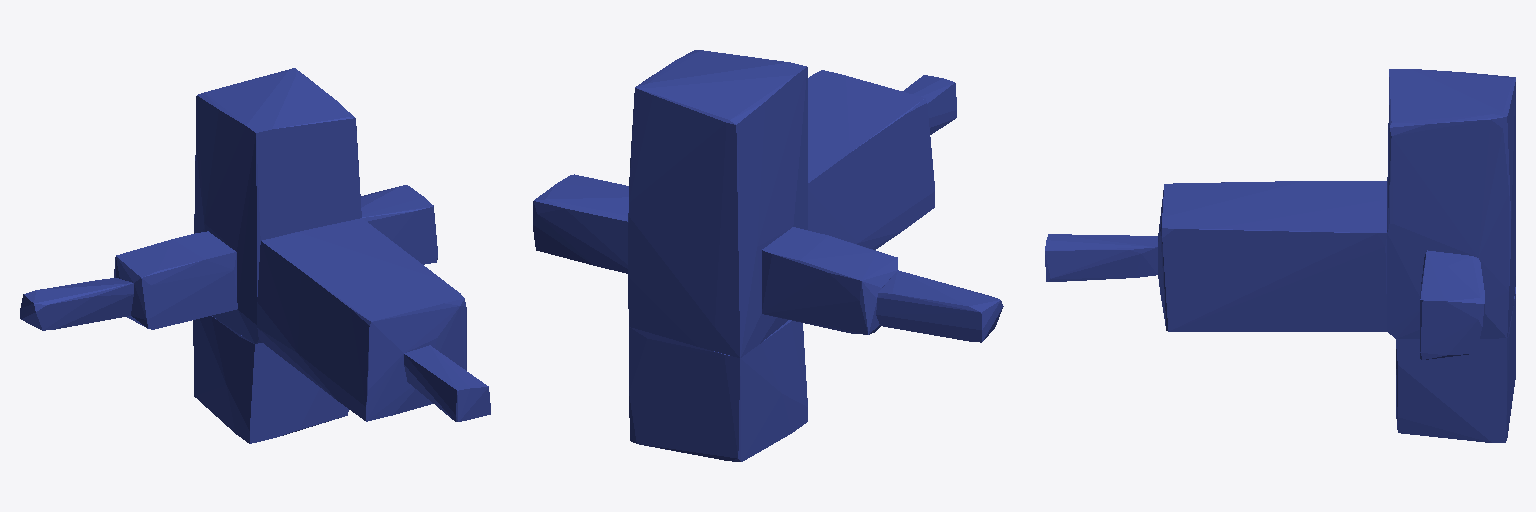
robot.urdf — blob814:
<robot name="blob814">
  <link name="random_obj_814">
    <contact>
      <lateral_friction value="1.0"/>
      <rolling_friction value="0.0"/>
      <inertia_scaling value="3.0"/>
      <contact_cfm value="0.0"/>
      <contact_erp value="1.0"/>
    </contact>
    <inertial>
      <origin rpy="0 0 0" xyz="0 0 0"/>
      <mass value="0.1"/>
      <inertia ixx="1" ixy="0" ixz="0" iyy="1" iyz="0" izz="0"/>
    </inertial>
    <visual>
      <origin rpy="0 0 0" xyz="0 0 0"/>
      <geometry>
        <mesh filename="814.obj" scale="0.015 0.015 0.015"/>
      </geometry>
      <material name="blockmat">
        <color rgba="0.28 0.34 0.66 1"/>
      </material>
    </visual>
    <collision>
      <origin rpy="0 0 0" xyz="0 0 0"/>
      <geometry>
        <mesh filename="814.obj" scale="0.015 0.015 0.015"/>
      </geometry>
    </collision>
  </link>
</robot>

--- What the picture shows (computed from the rendered views, not written in the file) ---
Views: 3 orthographic renders of the robot side by side, from view 1: azimuth 30°, elevation 25°; view 2: azimuth 150°, elevation 25°; view 3: azimuth 270°, elevation 25°.
Robot: blob814 — 1 links, 0 joints (none); root link random_obj_814; default pose: every joint at zero.
Links seen in each view (by area): view 1: random_obj_814; view 2: random_obj_814; view 3: random_obj_814.
Boxes of the visible links, x1,y1,x2,y2 form: random_obj_814: (20, 68, 490, 443); random_obj_814: (533, 50, 1003, 461); random_obj_814: (1045, 69, 1515, 442).
Bounding box of the posed robot: 0.1223 × 0.1228 × 0.0932 m (x, y, z).
1 mesh visuals loaded from 1 distinct referenced files (1 OBJ).